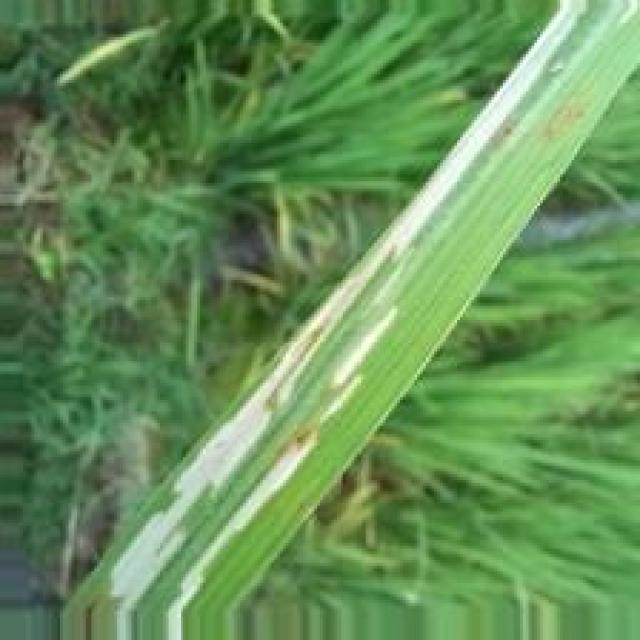Rice_Hispa: (107, 0, 593, 640), (170, 427, 323, 639), (329, 304, 388, 383)
